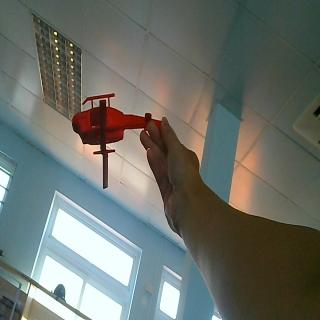Helicopter: (70, 92, 161, 190)
